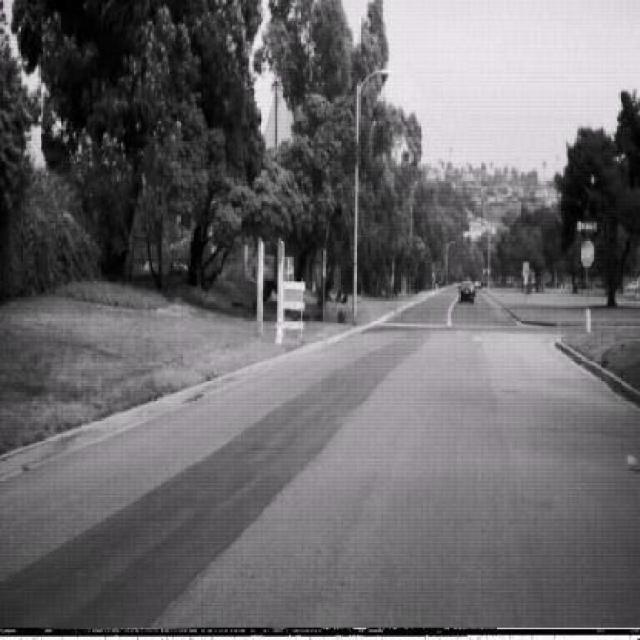stop: (578, 237, 594, 268)
